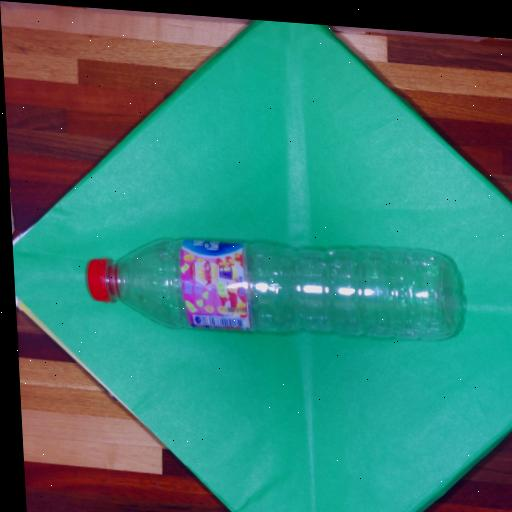bottle: (87, 239, 463, 338)
